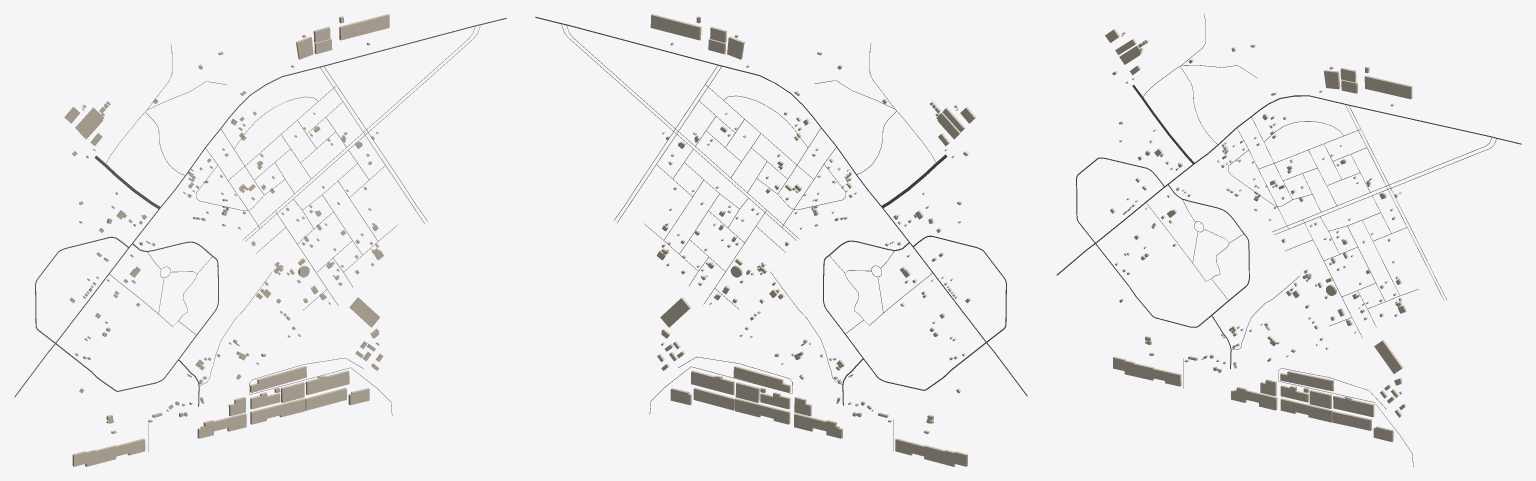
Rendered from historic-palestine-01_19_3430_3137.glb.
The picture shows the model from 3 angles, left to right: view 1: azimuth 30°, elevation 25°; view 2: azimuth 150°, elevation 25°; view 3: azimuth 330°, elevation 25°; orthographic projection. The views are drawn at different scales.
Visible parts, largest first — view 1: Building_.259, Building_.035, Building_.030, Building_.037, Road, Building_.031, Road .005, Building_.034; view 2: Building_.035, Building_.259, Building_.030, Building_.037, Road, Building_.031, Road .005, Building_.034; view 3: Building_.259, Building_.035, Building_.030, Building_.037, Road, Building_.031, Road .005, Building_.034.
Boxes of the visible parts, box(x1,y1,x2,y2) form: Building_.259: box(339, 14, 389, 40); Building_.035: box(250, 398, 305, 424); Building_.030: box(250, 366, 306, 392); Building_.037: box(197, 413, 246, 438); Road: box(160, 18, 506, 208); Building_.031: box(305, 370, 349, 394); Road .005: box(55, 241, 218, 391); Building_.034: box(305, 387, 346, 410); Building_.035: box(735, 398, 790, 424); Building_.259: box(650, 14, 701, 40); Building_.030: box(733, 366, 790, 392); Building_.037: box(794, 413, 842, 438); Road: box(535, 16, 881, 207); Building_.031: box(691, 370, 734, 394); Road .005: box(823, 240, 985, 390); Building_.034: box(693, 387, 735, 410); Building_.259: box(1364, 75, 1412, 99); Building_.035: box(1280, 398, 1332, 422); Building_.030: box(1280, 371, 1334, 391); Building_.037: box(1231, 387, 1277, 410); Road: box(1194, 95, 1521, 163); Building_.031: box(1333, 395, 1374, 417); Road .005: box(1095, 184, 1249, 327); Building_.034: box(1332, 411, 1371, 430).
Size of the model in its own units: 1507 by 1244 by 8.7.
